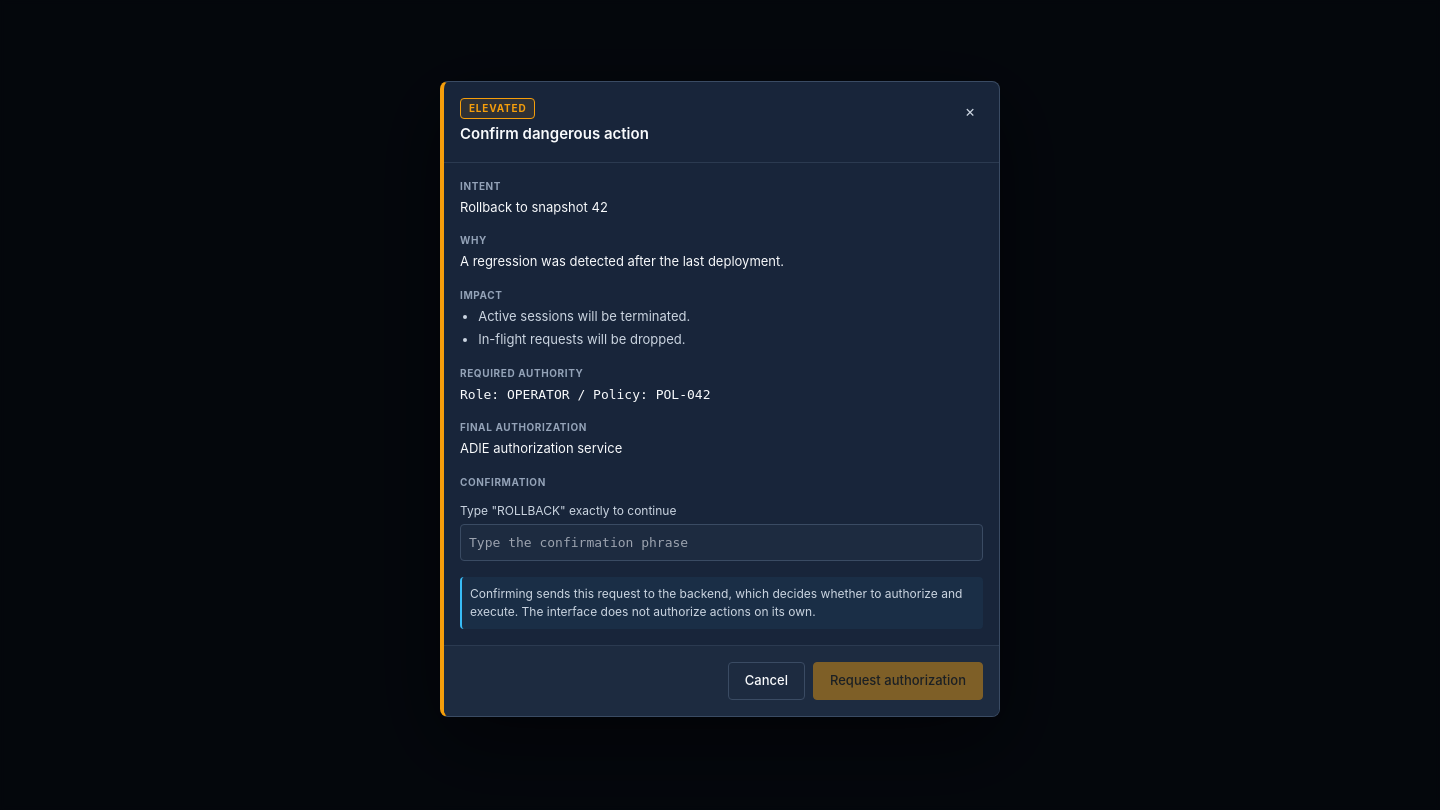
DangerousActionDialog › shows mismatch error when phrase differs
This screenshot has width=1440, height=810.
Type "wrong" into the field with test id "eg-danger-phrase" at (722, 542), box left=460, top=524, right=983, bottom=561
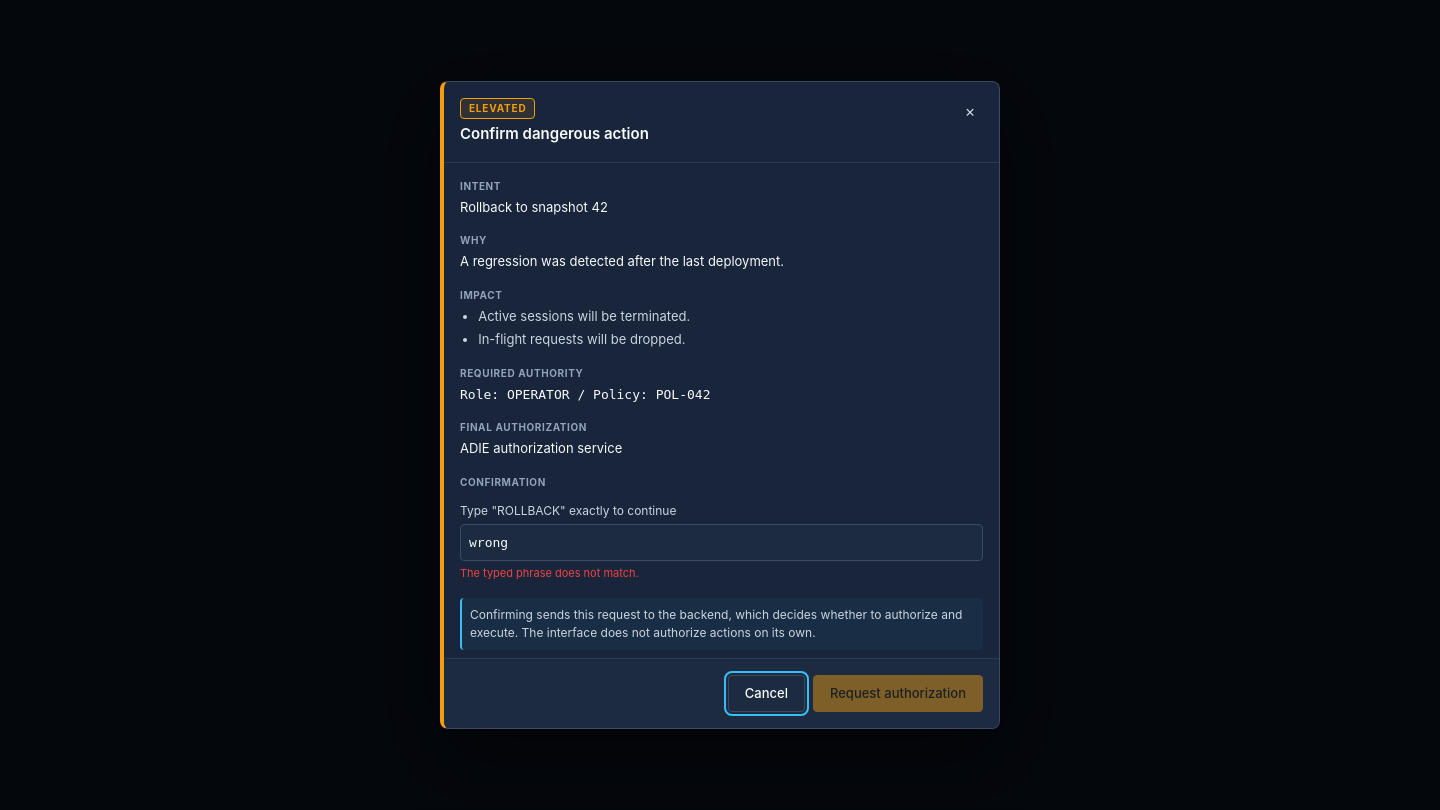
Now the text "The typed phrase does not match." is shown, box left=460, top=566, right=639, bottom=580
